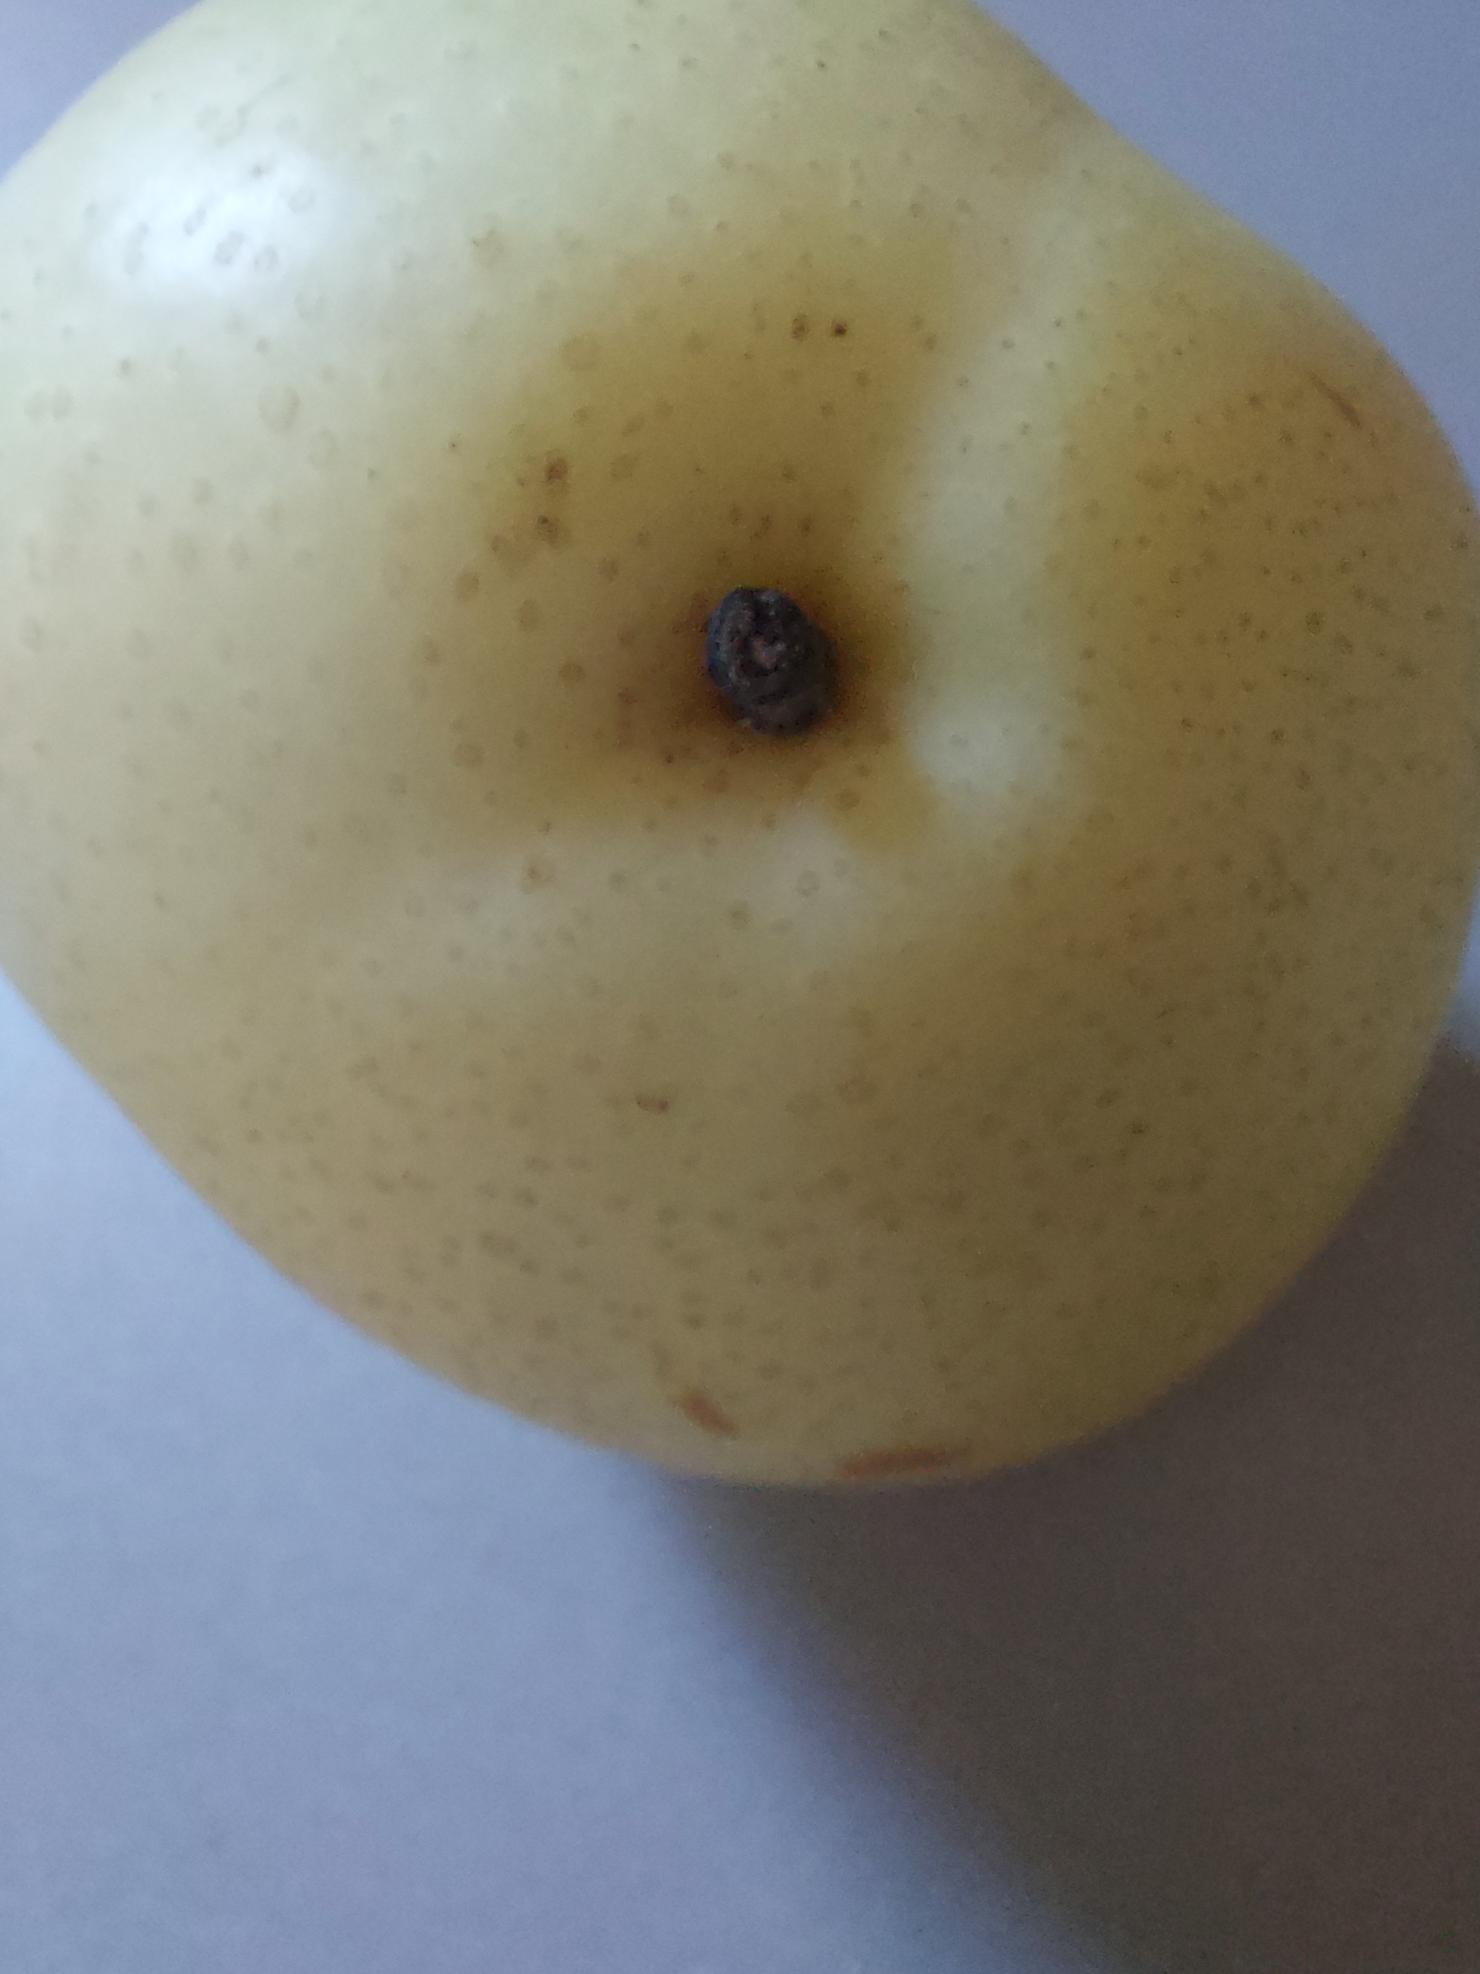Good Pear: (0, 0, 1480, 1512)
